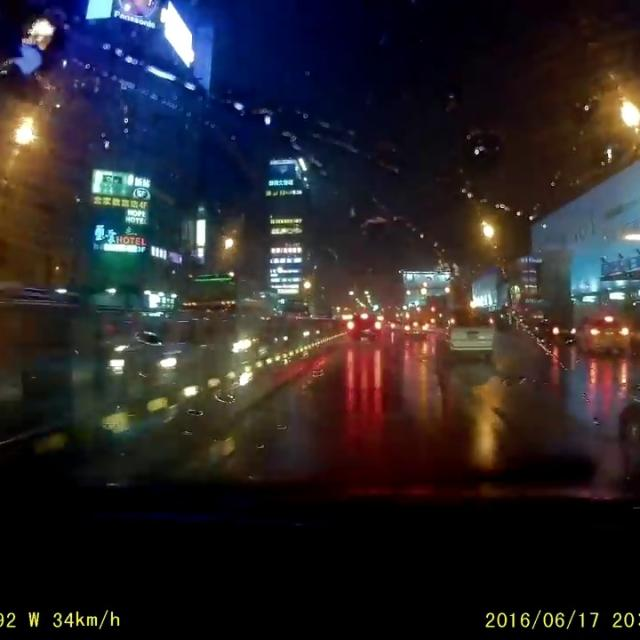Car: (104, 319, 217, 385), (442, 306, 494, 351), (574, 315, 632, 355), (344, 311, 380, 344), (401, 317, 429, 337)
